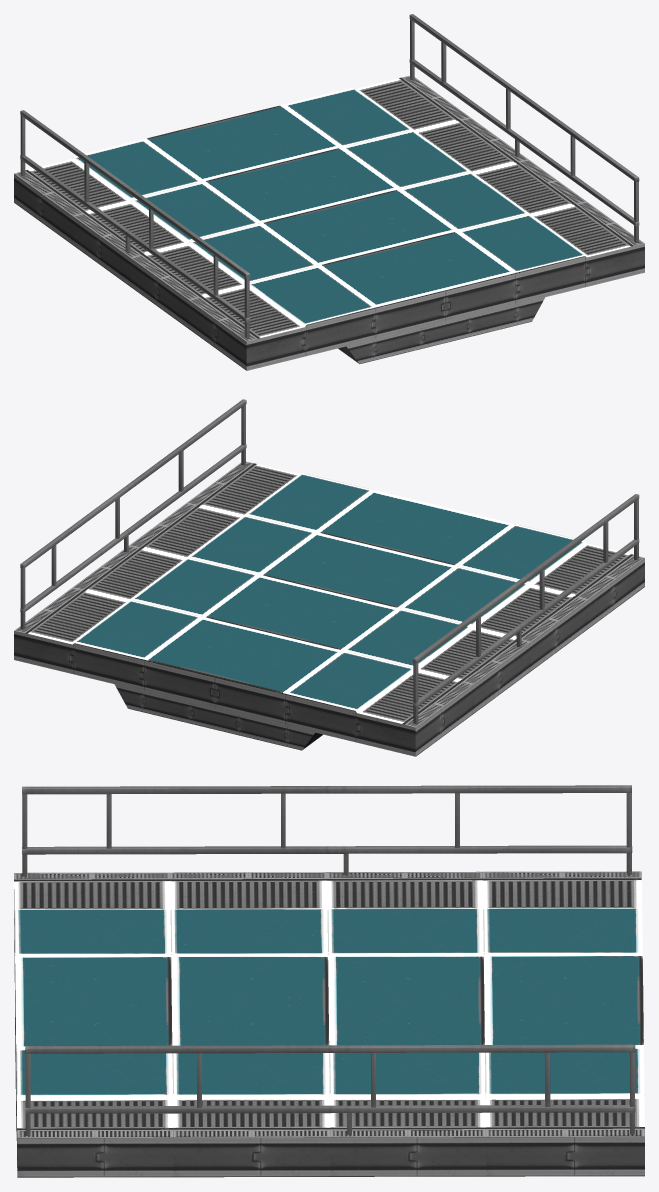
File: ARC1110037.fbx
The picture shows the model from 3 angles, top to bottom: view 1: azimuth 30°, elevation 25°; view 2: azimuth 150°, elevation 25°; view 3: azimuth 270°, elevation 25°; orthographic projection. The views are drawn at different scales.
Parts seen in each view (by area): view 1: smARC1110037; view 2: smARC1110037; view 3: smARC1110037.
Boxes of the visible parts, x1,y1,x2,y2 form: smARC1110037: [14, 14, 644, 370]; smARC1110037: [14, 399, 644, 756]; smARC1110037: [14, 785, 644, 1177].
Bounding box in the file's own units: 797 × 218 × 797.
1 material, 1 textured.
